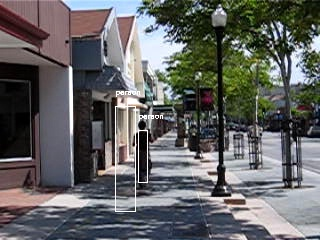person: (132, 121, 155, 191), (131, 121, 154, 191), (133, 121, 156, 191), (132, 120, 155, 190), (132, 122, 155, 192)
target_negative: (37, 64, 258, 135), (167, 139, 229, 220), (243, 62, 271, 182), (239, 42, 248, 121), (162, 193, 209, 200), (90, 225, 197, 227)
